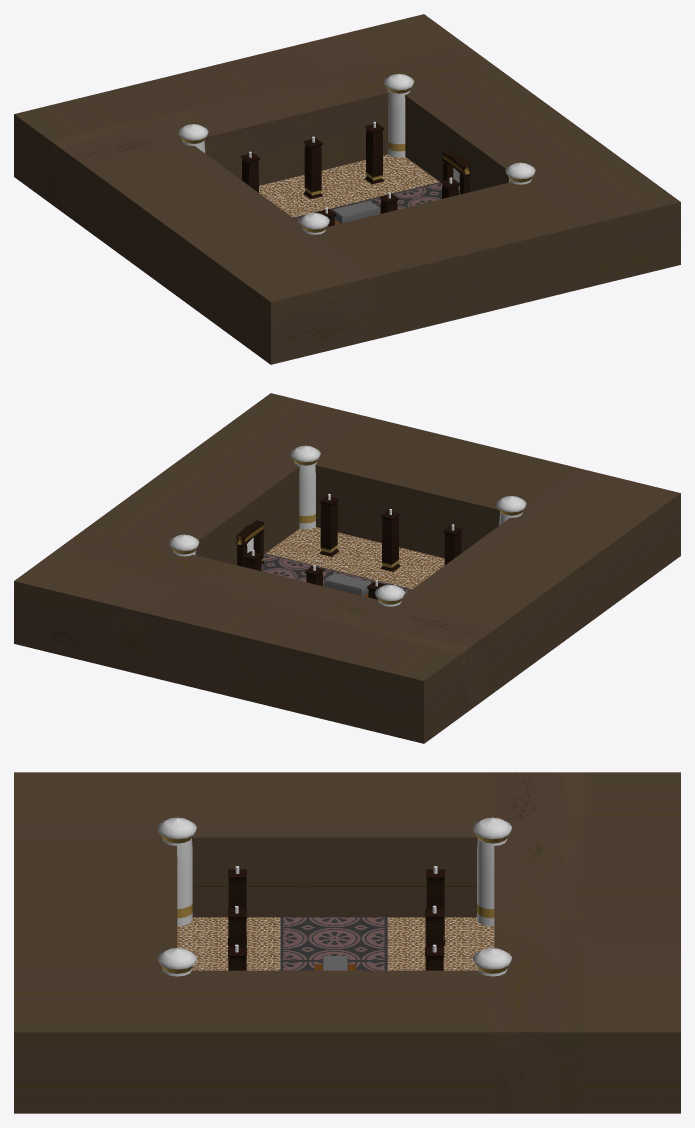
Rendered from second room.fbx.
The picture shows the model from 3 angles, top to bottom: view 1: azimuth 30°, elevation 25°; view 2: azimuth 150°, elevation 25°; view 3: azimuth 270°, elevation 25°; orthographic projection. The views are drawn at different scales.
Parts seen in each view (by area): view 1: Box766, Plane007, Cylinder055, Box776, Box775, Box771, Cylinder056, Box777, Cylinder054; view 2: Box766, Plane007, Cylinder053, Box772, Box773, Box771, Cylinder054, Box774, Cylinder056, Cylinder055; view 3: Box766, Plane007, Cylinder056, Cylinder054, Cylinder055, Cylinder053, Box777, Box774, Box773, Box776.
Boxes of the visible parts, x1,y1,x2,y2 form: Box766: [14, 14, 680, 364]; Plane007: [259, 154, 442, 222]; Cylinder055: [384, 74, 414, 157]; Box776: [303, 138, 322, 199]; Box775: [364, 123, 384, 184]; Box771: [333, 201, 380, 223]; Cylinder056: [178, 124, 208, 153]; Box777: [240, 153, 260, 192]; Cylinder054: [299, 213, 329, 234]; Box766: [14, 393, 680, 743]; Plane007: [261, 527, 444, 594]; Cylinder053: [290, 445, 320, 529]; Box772: [319, 495, 338, 556]; Box773: [380, 510, 400, 571]; Box771: [324, 573, 371, 596]; Cylinder054: [496, 496, 526, 525]; Box774: [443, 526, 462, 565]; Cylinder056: [374, 584, 405, 606]; Cylinder055: [169, 534, 199, 556]; Box766: [14, 772, 680, 1113]; Plane007: [177, 917, 494, 970]; Cylinder056: [472, 817, 512, 926]; Cylinder054: [157, 817, 196, 926]; Cylinder055: [473, 948, 511, 976]; Cylinder053: [157, 948, 196, 976]; Box777: [426, 869, 445, 945]; Box774: [228, 869, 246, 945]; Box773: [228, 908, 246, 970]; Box776: [425, 908, 444, 947].
Bounding box in the file's own units: 3200 × 593 × 3471.
8 materials, 6 textured.
